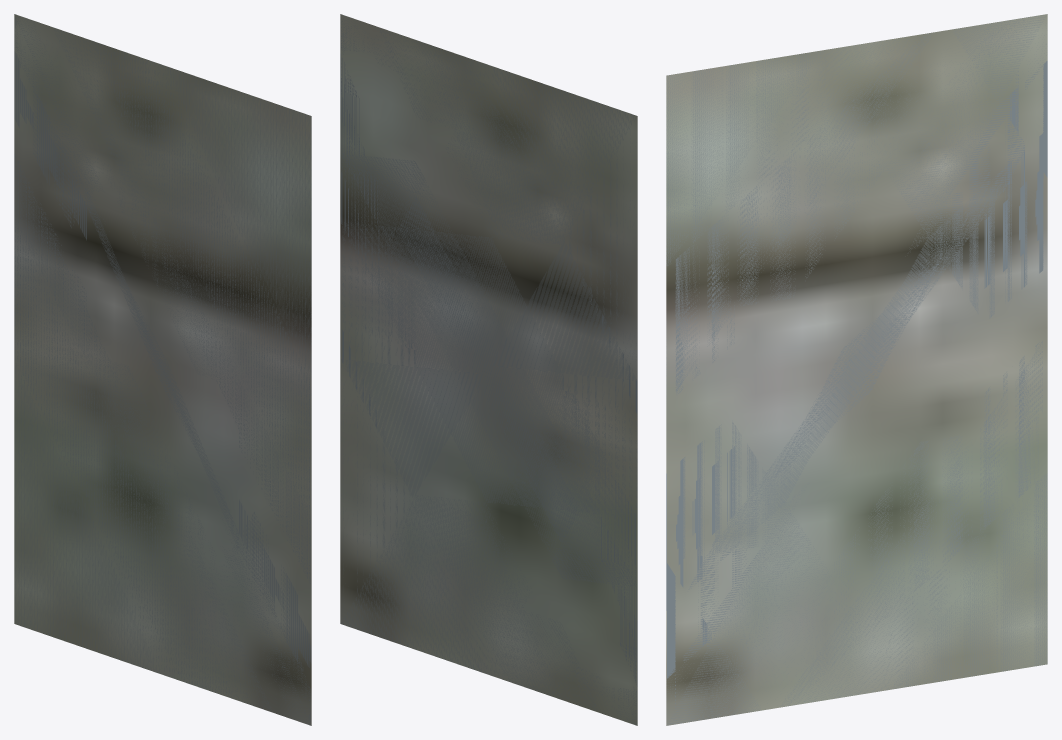
File: 西庸城堡395.dae
3 renders of one model, left to right at view 1: azimuth 30°, elevation 25°; view 2: azimuth 210°, elevation 25°; view 3: azimuth 270°, elevation 25°, orthographic. The views are drawn at different scales.
Parts seen in each view (by area): view 1: SketchUp; view 2: SketchUp; view 3: SketchUp.
Part boxes in pixels (bbox=[...]): SketchUp: bbox=[14, 14, 311, 725]; SketchUp: bbox=[340, 14, 637, 725]; SketchUp: bbox=[666, 14, 1047, 725].
Size of the model in its own units: 10.55 by 27.62 by 51.97.
